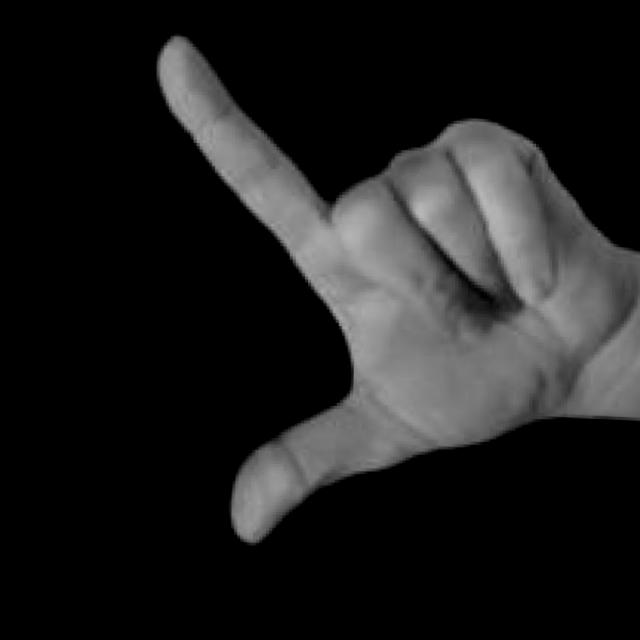L: (123, 24, 640, 570)
